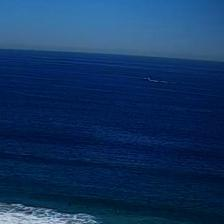surfer: (68, 203, 71, 206), (85, 206, 89, 208), (114, 210, 116, 212)
